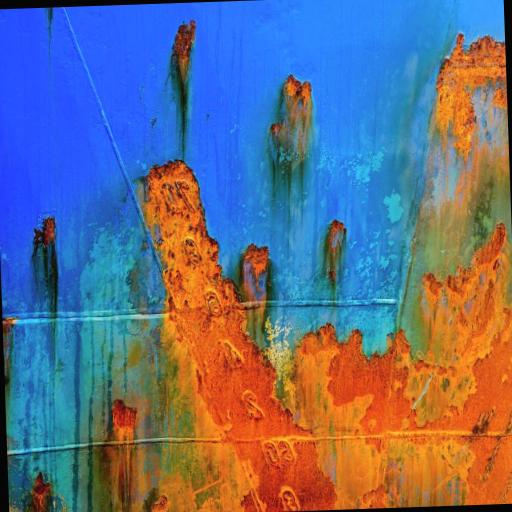segmentation: (145, 160, 336, 511), (397, 33, 512, 367), (294, 332, 478, 508), (430, 336, 512, 430), (327, 331, 395, 430), (294, 323, 341, 431), (165, 19, 195, 158), (272, 73, 313, 168), (239, 243, 270, 343), (31, 215, 58, 314), (326, 220, 346, 290), (112, 398, 137, 440), (28, 472, 52, 512), (3, 316, 17, 383), (150, 494, 168, 512)
